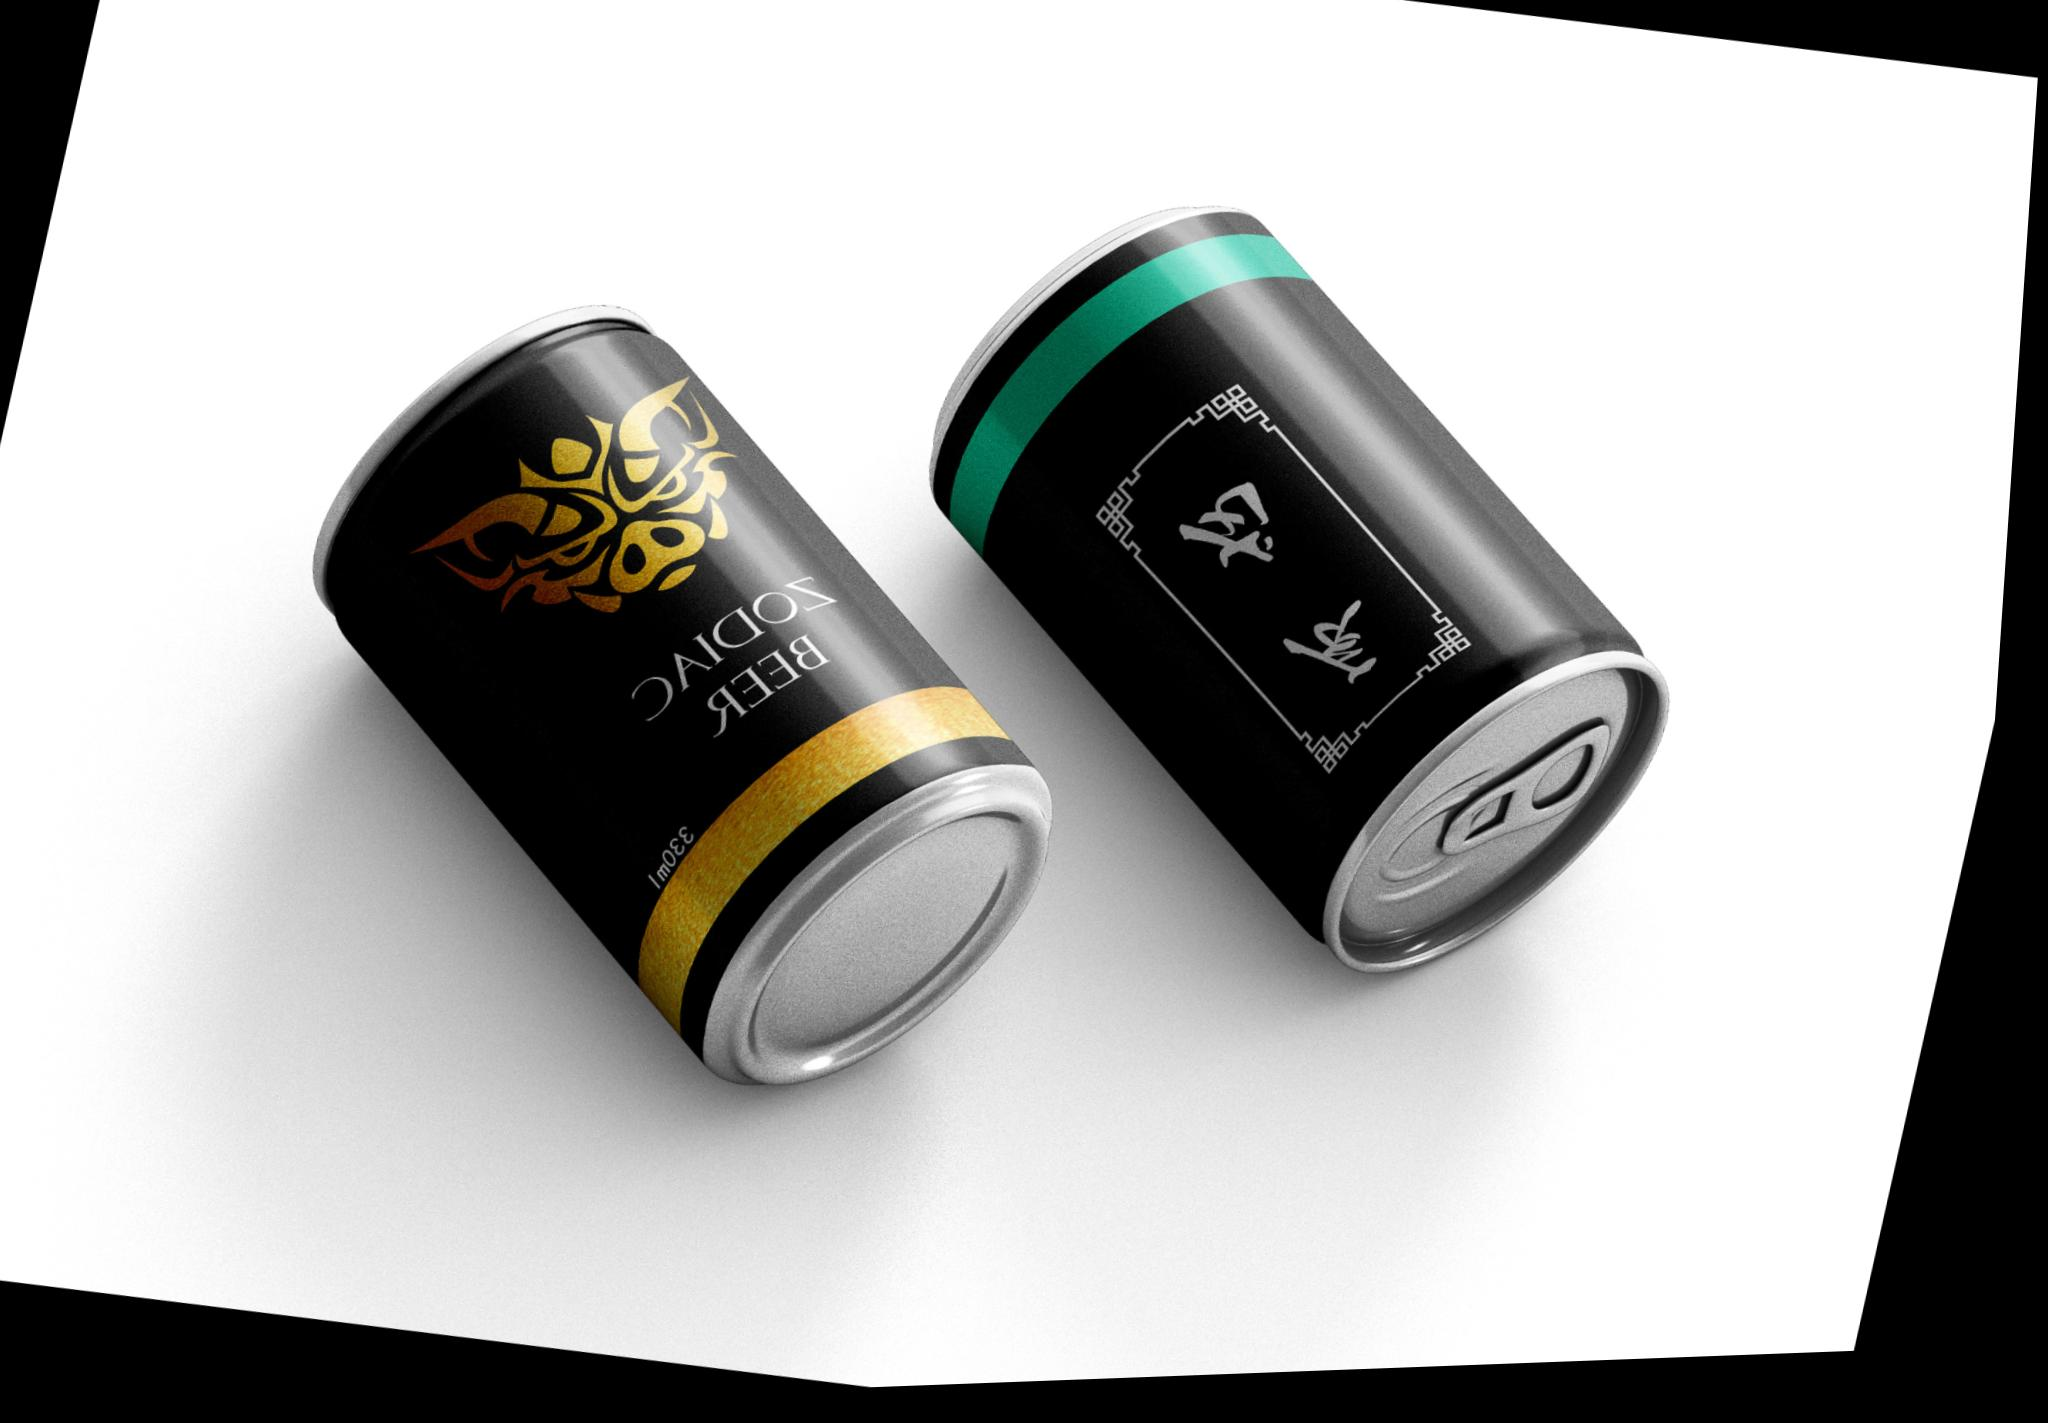metal: (316, 313, 1049, 1080), (934, 212, 1664, 968)
